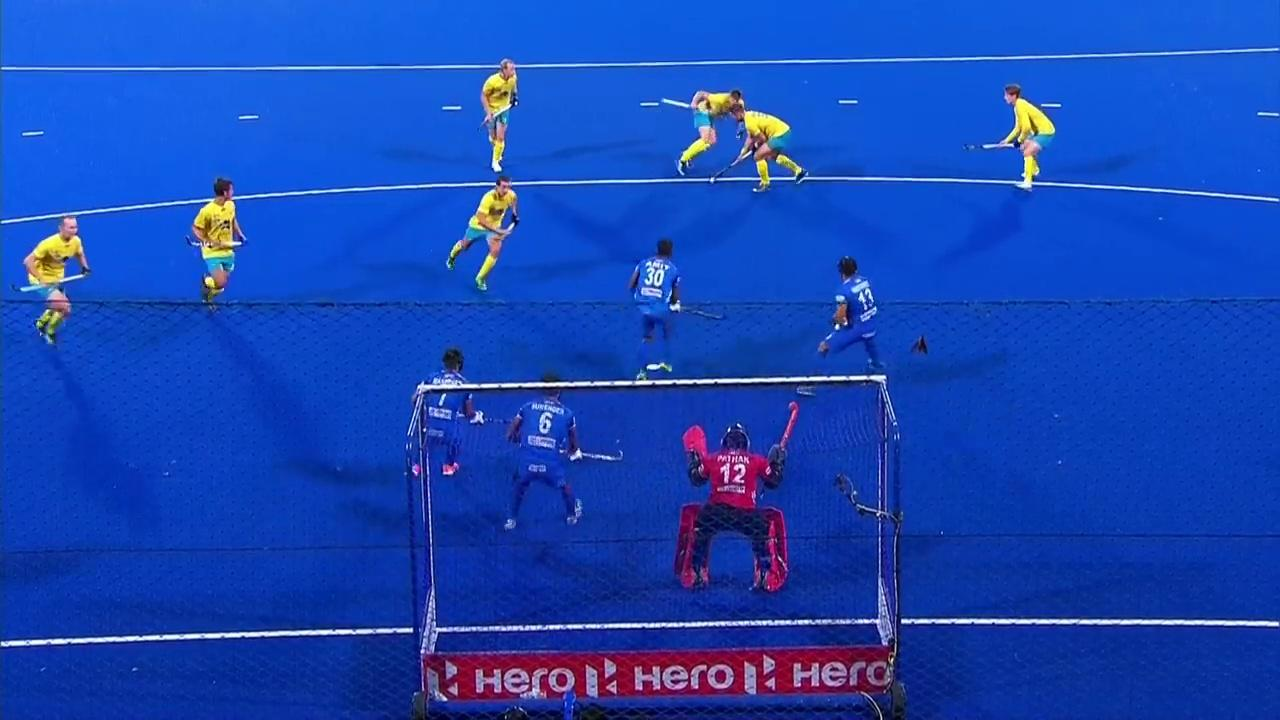ball: (700, 172, 723, 187)
